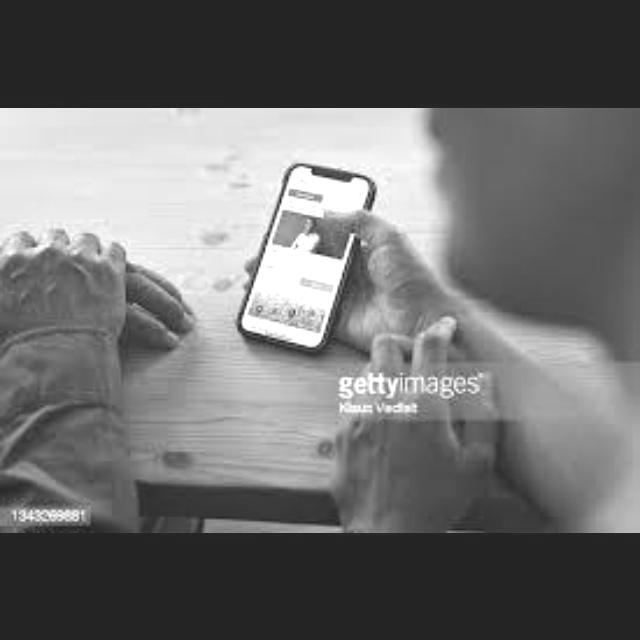fake: (233, 157, 375, 358)
